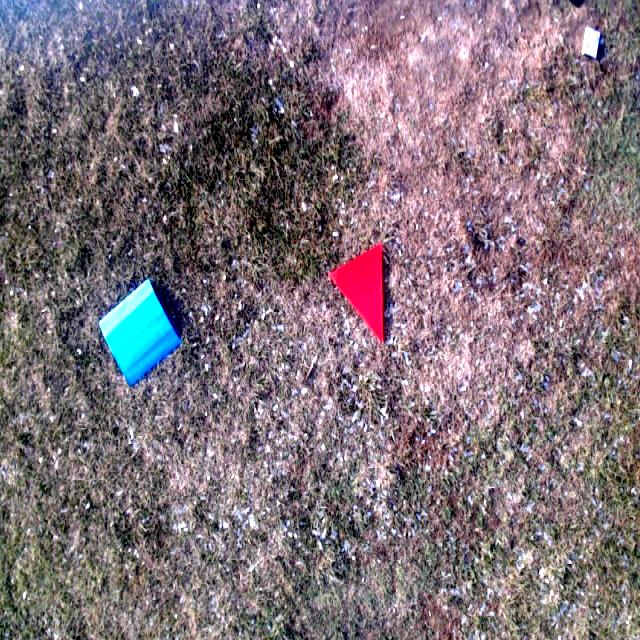blue_square: (101, 279, 180, 386)
red_triangle: (330, 244, 385, 345)
